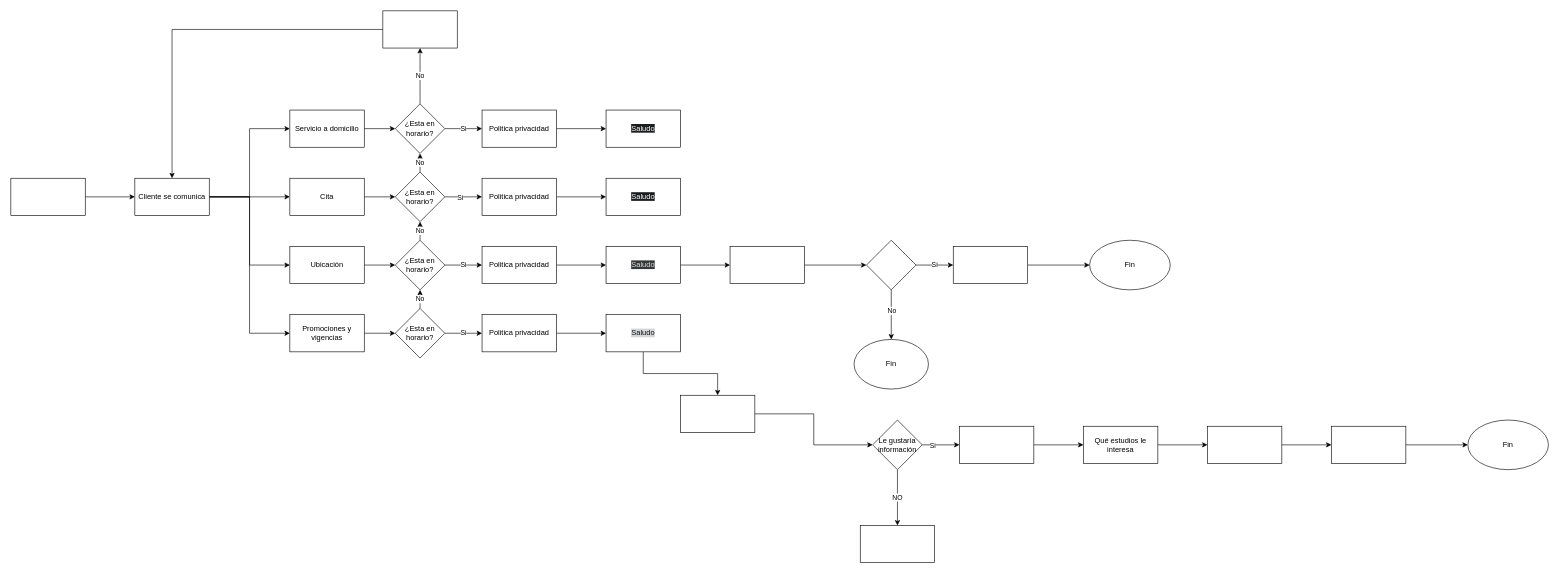
The diagram is 1559 pixels wide and 574 high, and some of its shapes have lost their labels. The shapes that lost their labels are listed below. From the top down, each one's box as (x1, y1, x2, y2) in pixels, then its label:
(382, 10, 457, 48): Mensaje de que no esta en horario
(10, 178, 85, 215): Laboratorio
(729, 246, 804, 284): Proporciona ubicación
(866, 240, 916, 290): Le gustaría más información
(953, 246, 1028, 284): Entra humano
(680, 395, 755, 432): Lista de promociones vigentes
(959, 426, 1034, 463): ¿Cuenta con orden Médica?
(1207, 426, 1282, 463): Pedimos nombre y fecha de nacimiento
(1331, 426, 1406, 463): Entra un humano
(860, 525, 935, 563): entra una persona
